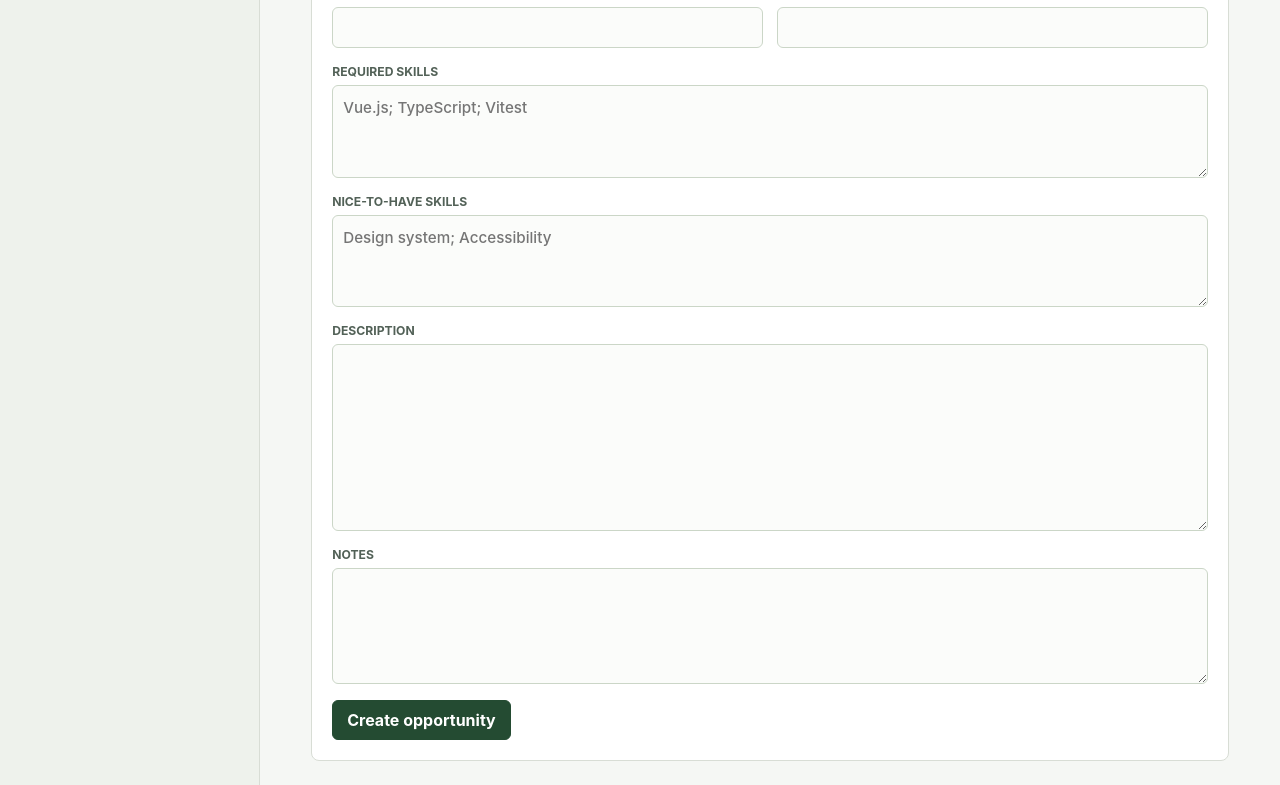
Test: OpportunityCreatePage › shows validation errors for missing required fields
(page scrolled)
Click the button "Create opportunity": (421, 720) [332,700,511,740]
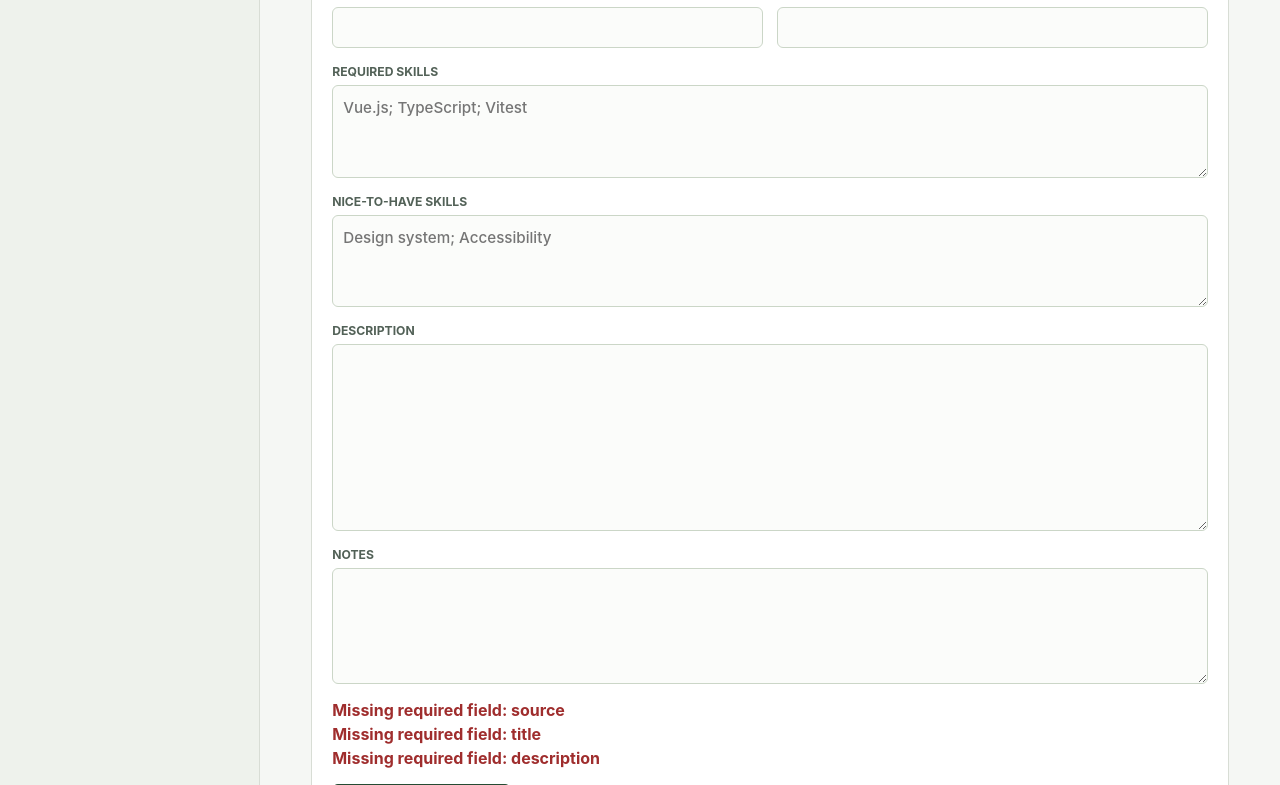
Expected: the text "Missing required field: source" is shown, [332,700,565,720]
Expected: the text "Missing required field: title" is shown, [332,724,541,744]
Expected: the text "Missing required field: description" is shown, [332,748,600,768]
